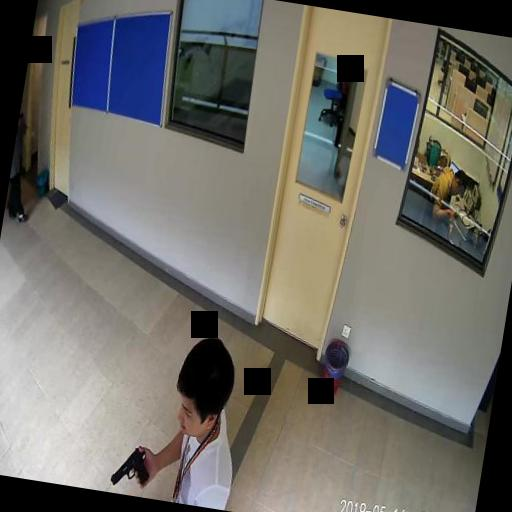Handgun: (109, 442, 151, 488)
